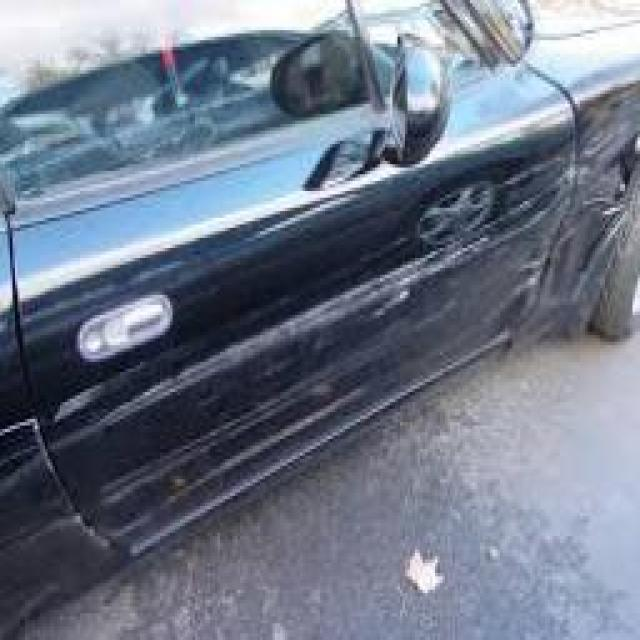rapairable: (514, 148, 628, 319), (361, 214, 495, 348), (46, 507, 157, 561), (35, 397, 122, 427)
